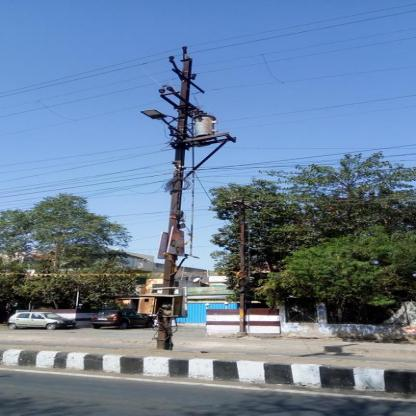Electrical Pole: (115, 43, 228, 353)
